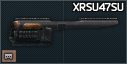AKS-74U CAA XRSU47SU tactical handguard: (0, 0, 127, 64)
